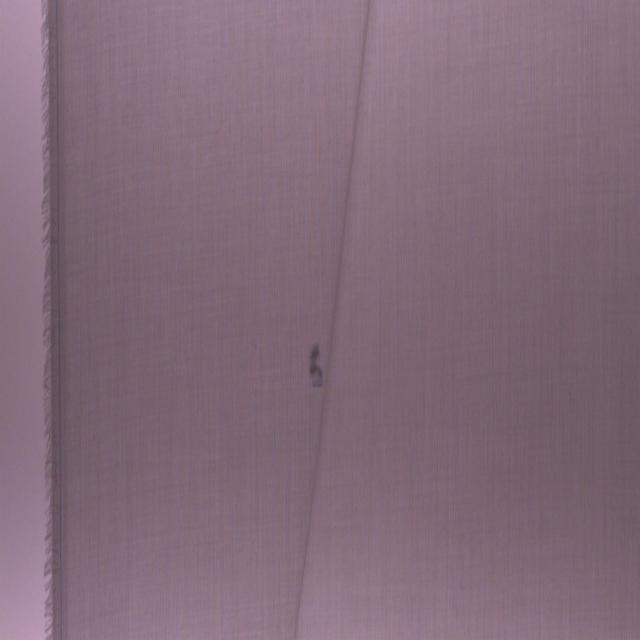dirty: (307, 342, 325, 390)
